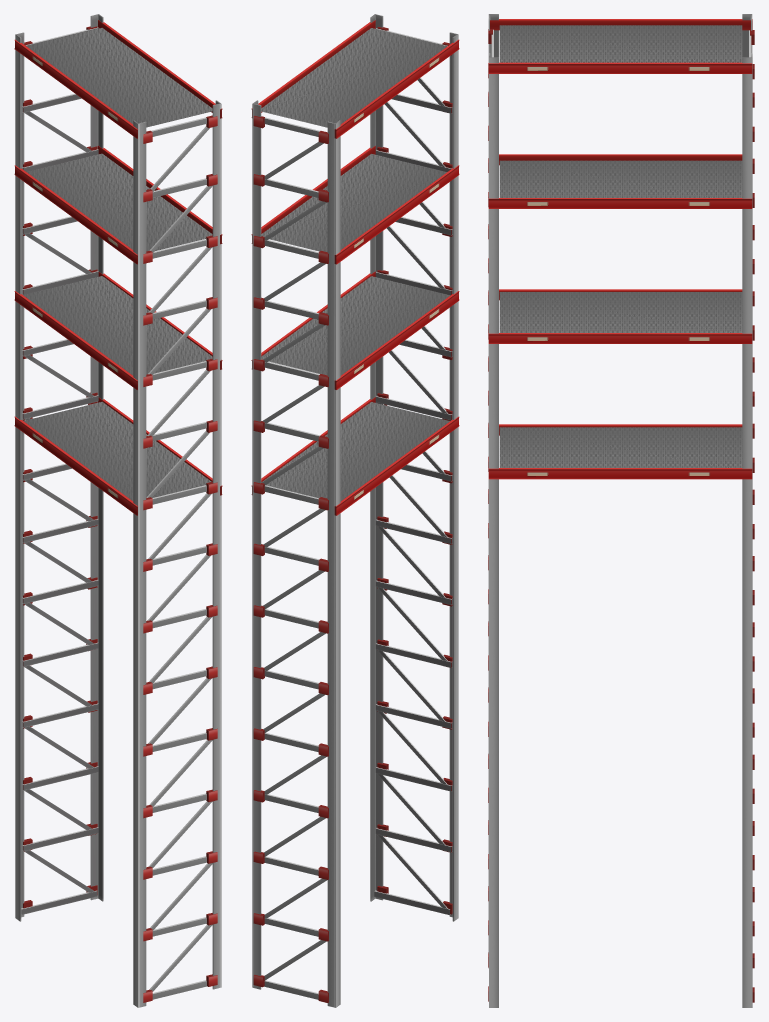
The model's file is RagBridge.fbx.
The picture shows the model from 3 angles, left to right: view 1: azimuth 30°, elevation 25°; view 2: azimuth 150°, elevation 25°; view 3: azimuth 270°, elevation 25°; orthographic projection. The views are drawn at different scales.
Visible parts, largest first — view 1: RagBridge; view 2: RagBridge; view 3: RagBridge.
Boxes of the visible parts, bbox=[...] form: RagBridge: bbox=[14, 14, 222, 1007]; RagBridge: bbox=[251, 14, 459, 1007]; RagBridge: bbox=[488, 14, 754, 1007].
Size of the model in its own units: 13.8 by 136 by 34.67.
Materials: 1 (1 with a texture image).
